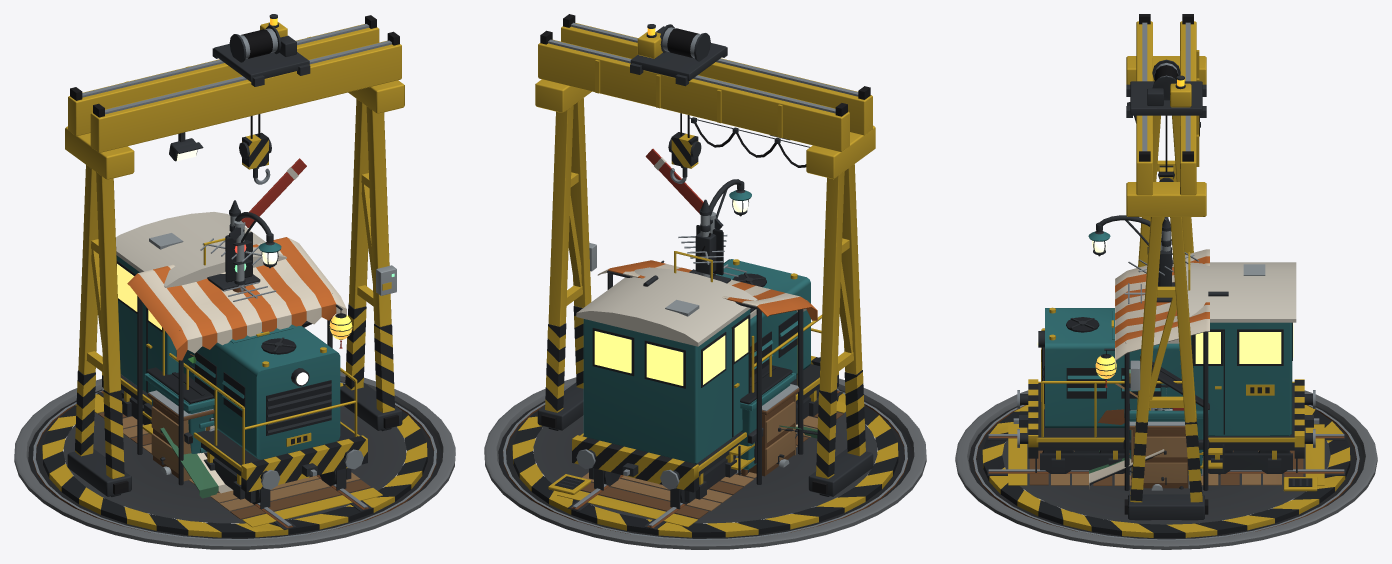
The model's file is kit_props.glb.
3 renders of one model, left to right at view 1: azimuth 30°, elevation 25°; view 2: azimuth 150°, elevation 25°; view 3: azimuth 270°, elevation 25°, orthographic. The views are drawn at different scales.
Parts seen in each view (by area): view 1: gantry_crane, locomotive, turntable, stall, rail_signal, dumpster, awning, streetlamp, antenna; view 2: gantry_crane, locomotive, turntable, stall, rail_signal, dumpster, streetlamp; view 3: locomotive, turntable, gantry_crane, stall, dumpster, rail_signal, streetlamp, awning.
Boxes of the visible parts, x1,y1,x2,y2 form: gantry_crane: (65,14,404,496); locomotive: (102,212,367,509); turntable: (14,371,455,549); stall: (127,237,352,485); rail_signal: (203,158,306,290); dumpster: (144,321,312,453); awning: (160,427,232,498); streetlamp: (228,212,281,268); antenna: (200,238,276,301); gantry_crane: (535,14,875,496); locomotive: (572,259,838,509); turntable: (484,377,926,549); stall: (597,260,817,484); rail_signal: (645,148,730,283); dumpster: (737,364,796,474); streetlamp: (700,179,751,255); locomotive: (1013,262,1319,474); turntable: (955,390,1377,549); gantry_crane: (1124,14,1208,520); stall: (1095,249,1209,490); dumpster: (1115,356,1209,473); rail_signal: (1147,219,1190,302); streetlamp: (1088,215,1172,267); awning: (1089,449,1166,489).
Size of the model in its own units: 5.04 by 5.94 by 5.04.
